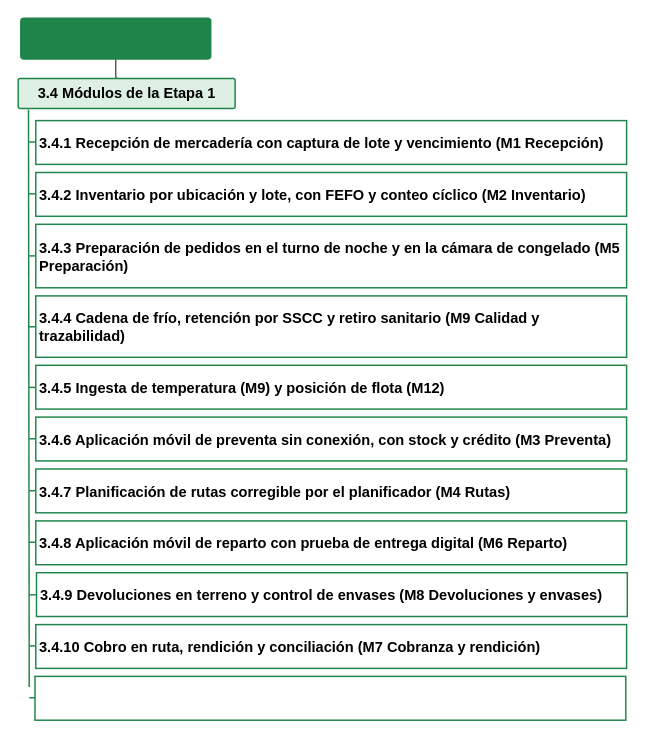
The diagram is 645 pixels wide and 738 high, and some of its shapes have lost their labels. Each missing label, with the box of its shape:
3. Construcción: (20, 17, 211, 59)
3.4.11 Indicadores operacionales y OTIF diario (M10 Analítica): (34, 675, 626, 720)
